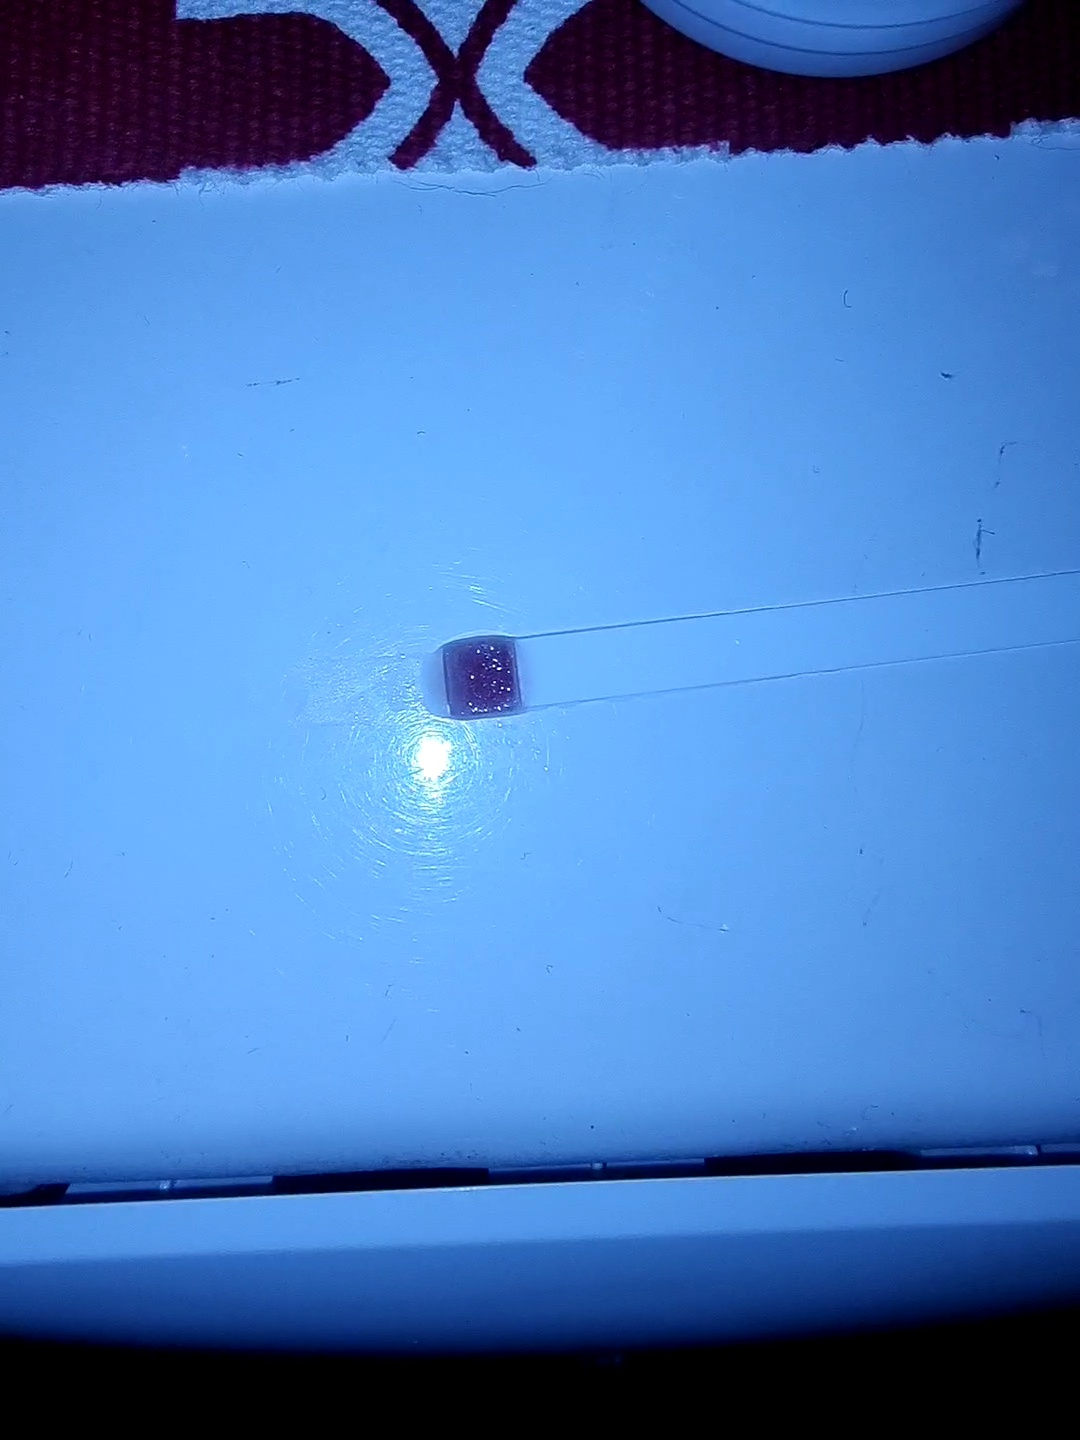keto-tip: (444, 634, 528, 721)
